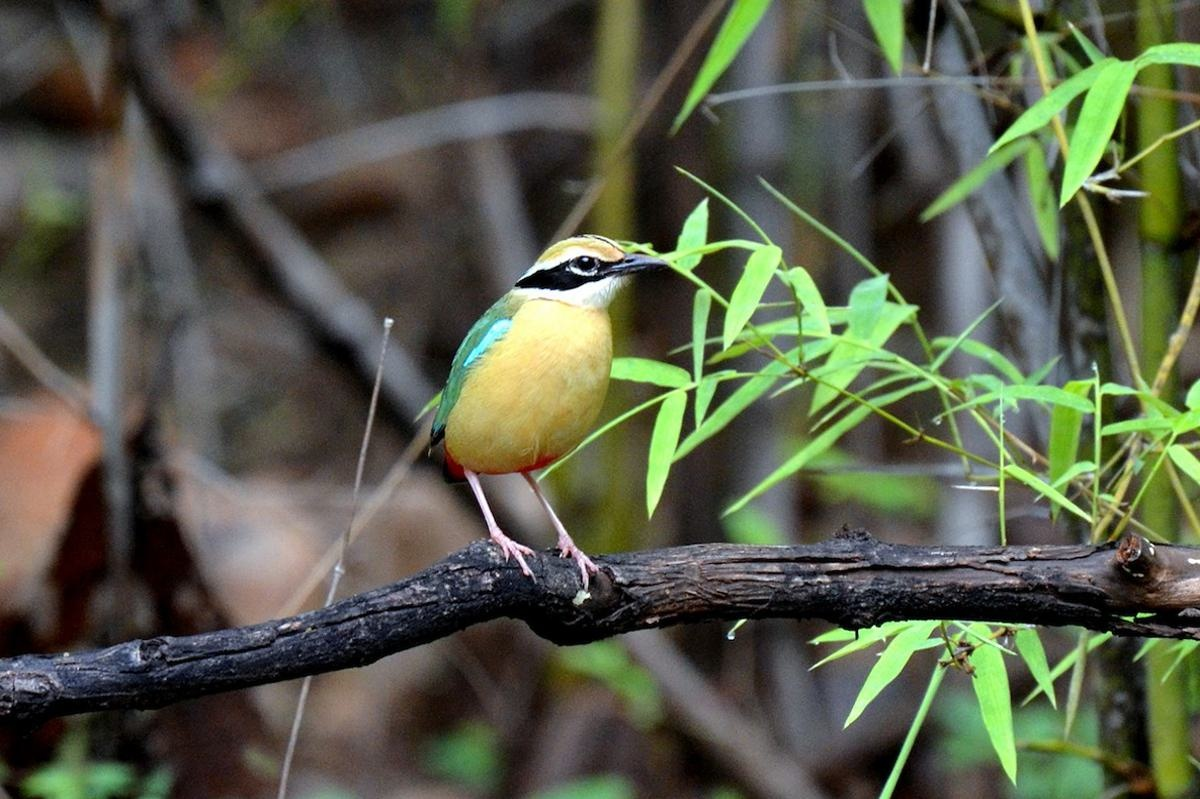pitta: (407, 185, 730, 613)
